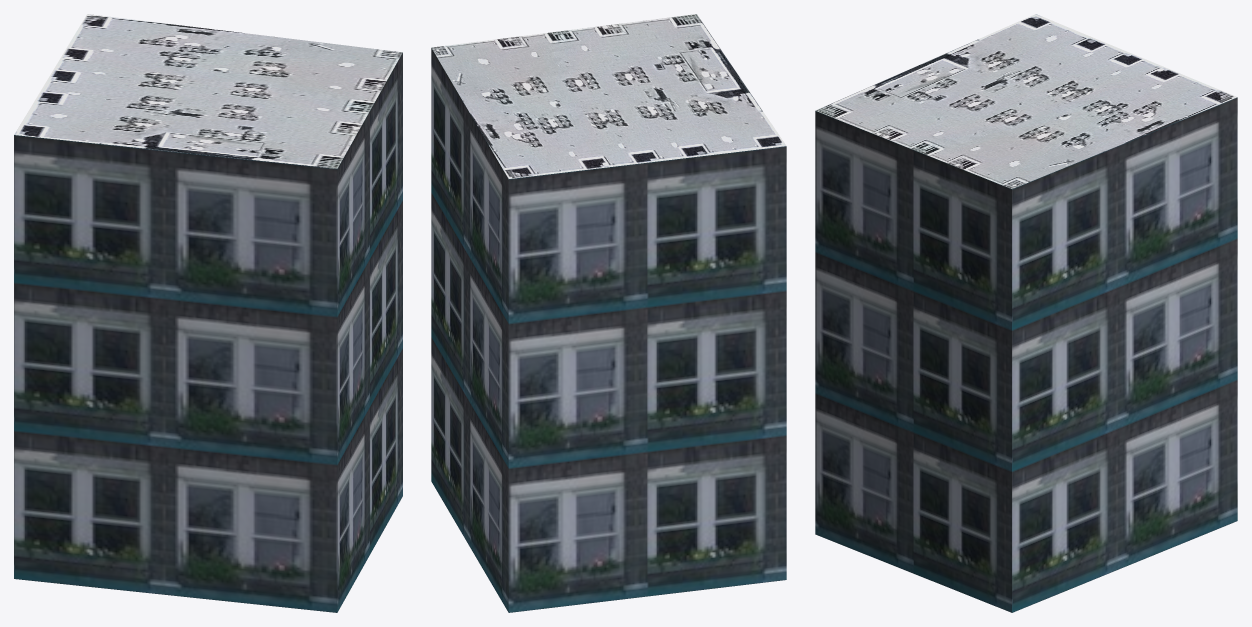
The model's file is ResTex__4121.fbx.
3 renders of one model, left to right at view 1: azimuth 30°, elevation 25°; view 2: azimuth 150°, elevation 25°; view 3: azimuth 270°, elevation 25°, orthographic. The views are drawn at different scales.
Parts seen in each view (by area): view 1: CityEngineMaterial_11_m, CityEngineMaterial_m; view 2: CityEngineMaterial_11_m, CityEngineMaterial_m; view 3: CityEngineMaterial_11_m, CityEngineMaterial_m.
Boxes of the visible parts, left/top/right/bottom form: CityEngineMaterial_11_m: left=14, top=52, right=402, bottom=612; CityEngineMaterial_m: left=14, top=14, right=402, bottom=168; CityEngineMaterial_11_m: left=431, top=48, right=786, bottom=612; CityEngineMaterial_m: left=431, top=14, right=786, bottom=178; CityEngineMaterial_11_m: left=815, top=97, right=1237, bottom=612; CityEngineMaterial_m: left=815, top=14, right=1237, bottom=188.
Size of the model in its own units: 7.98 by 9 by 8.13.
2 materials, 2 textured.
